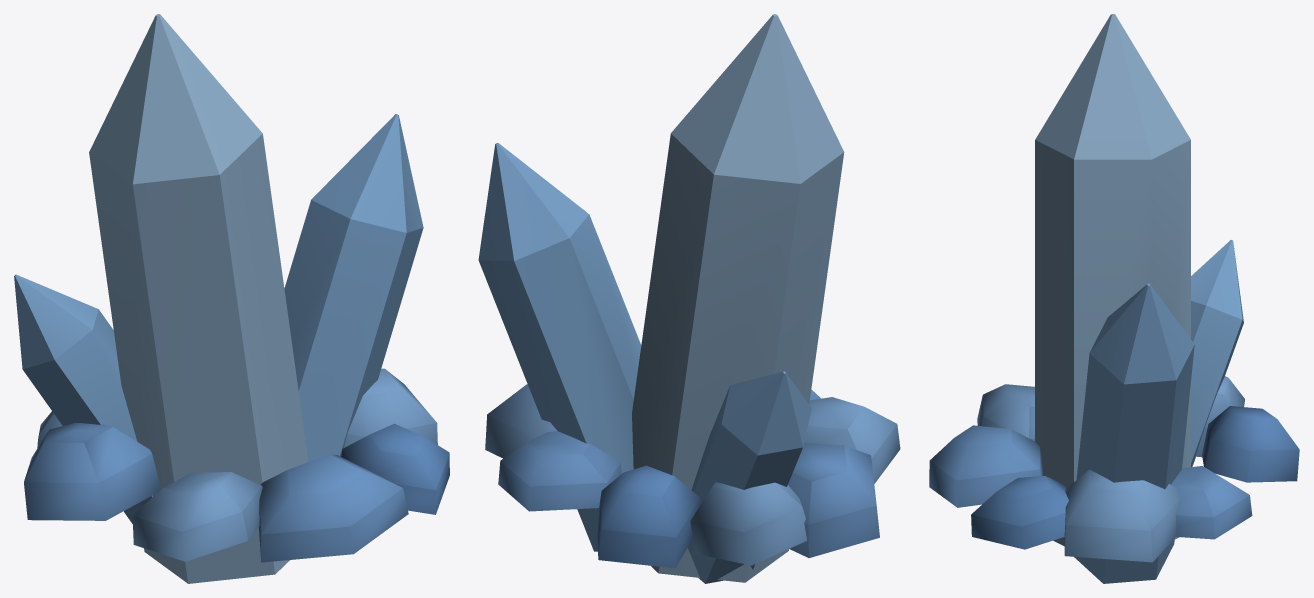
Rendered from IceSpike2.fbx.
3 views of the same model, side by side, from view 1: azimuth 30°, elevation 25°; view 2: azimuth 150°, elevation 25°; view 3: azimuth 270°, elevation 25° (orthographic). The views are drawn at different scales.
Visible parts, largest first — view 1: IceSpike; view 2: IceSpike; view 3: IceSpike.
Boxes of the visible parts, box(x1,y1,x2,y2) form: IceSpike: box(14, 14, 449, 583); IceSpike: box(478, 14, 900, 583); IceSpike: box(929, 14, 1299, 583).
Bounding box in the file's own units: 8.22 × 11.26 × 7.61.
